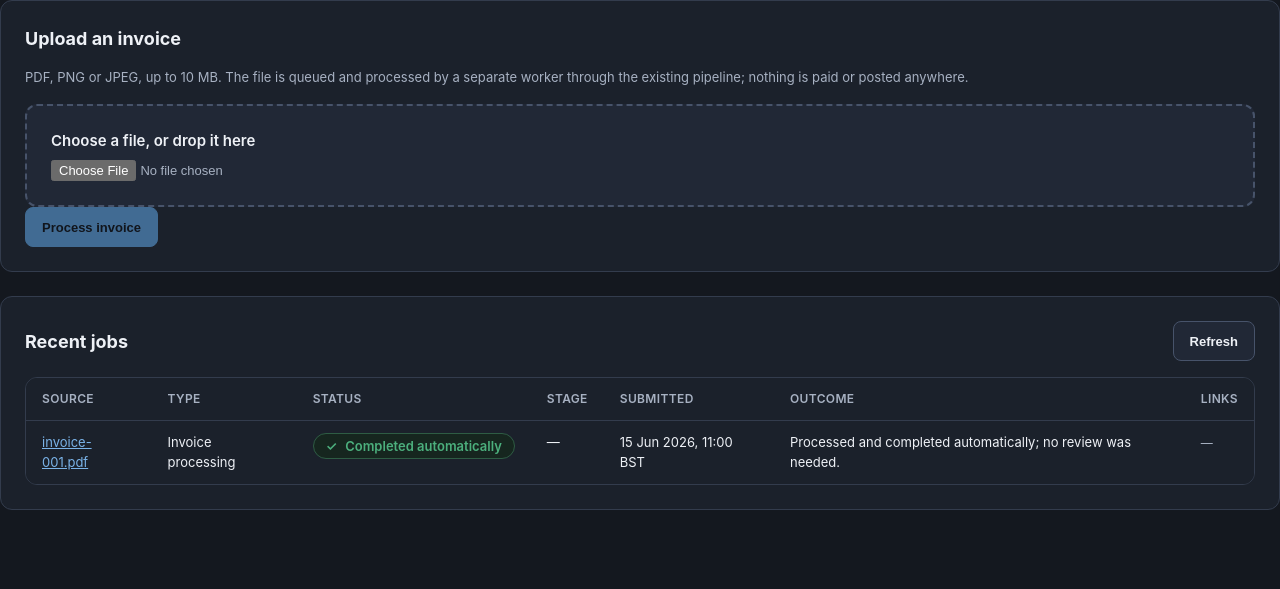
Scenario: OperationsConsole › refreshes on demand and keeps the last state with an alert when refresh fails
The image size is (1280, 589).
Step 1. Click the button with test id "refresh-jobs" → (1214, 341), box [1173,321,1255,361]
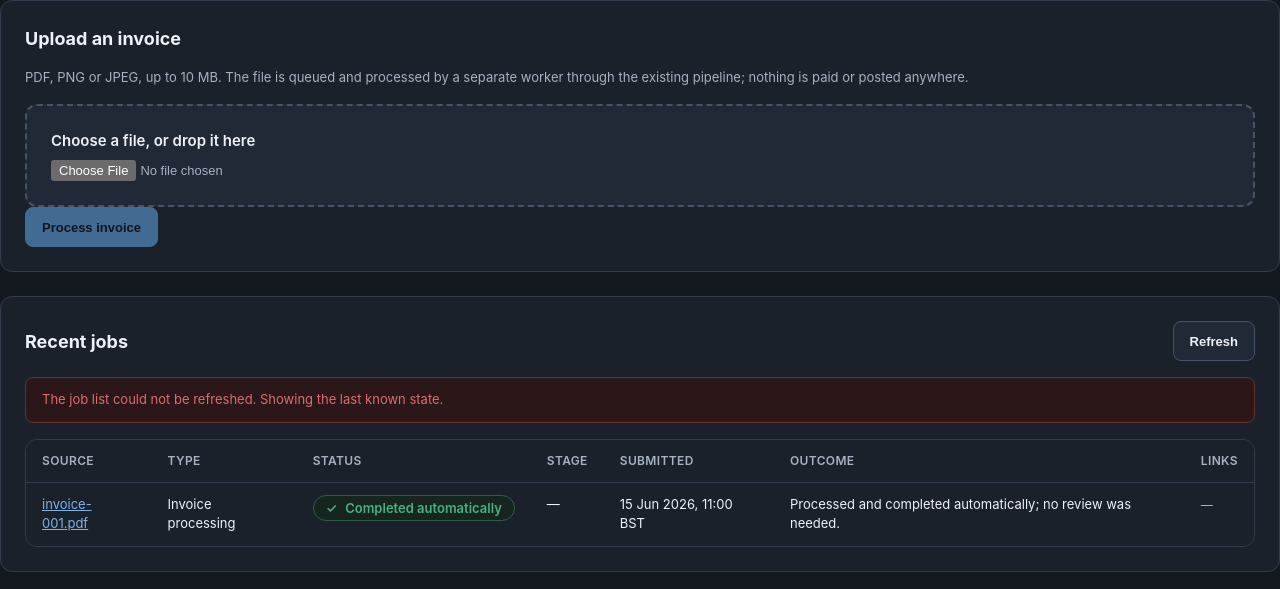
Check: the link "invoice-001.pdf" is shown, box [42,496,92,531]
Check: the message with test id "list-error" shows "last known state", box [42,391,443,407]
